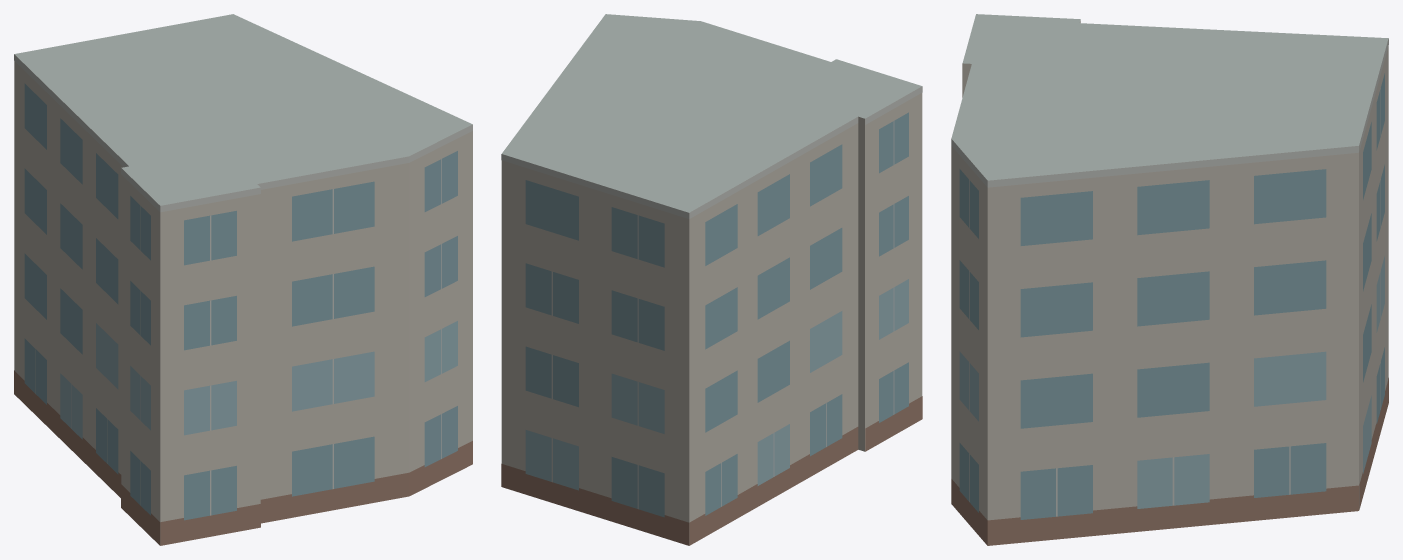
The model's file is survey-upis-32628456.glb.
3 views of the same model, side by side, from view 1: azimuth 30°, elevation 25°; view 2: azimuth 150°, elevation 25°; view 3: azimuth 270°, elevation 25° (orthographic). The views are drawn at different scales.
Parts seen in each view (by area): view 1: survey-upis-32628456.tmp; view 2: survey-upis-32628456.tmp; view 3: survey-upis-32628456.tmp.
Boxes of the visible parts, bbox=[...] form: survey-upis-32628456.tmp: bbox=[14, 14, 472, 545]; survey-upis-32628456.tmp: bbox=[501, 14, 922, 545]; survey-upis-32628456.tmp: bbox=[951, 14, 1388, 545].
Bounding box in the file's own units: 12.54 × 12.8 × 13.9.
